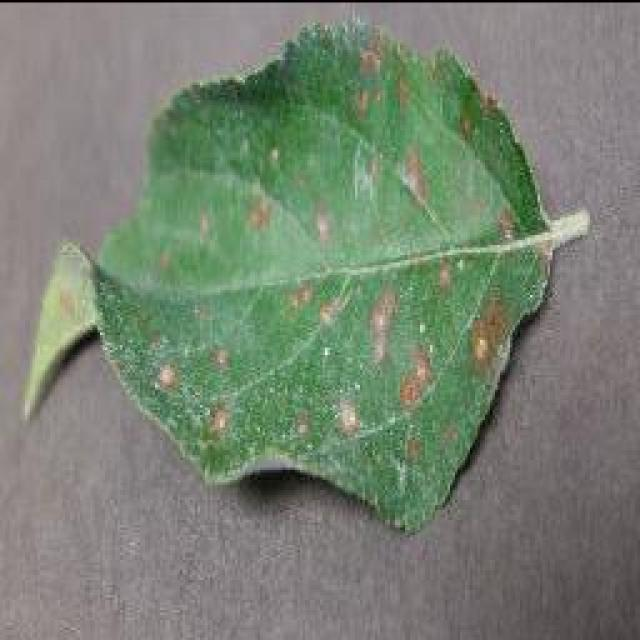apple scab disease: (20, 13, 590, 535)
